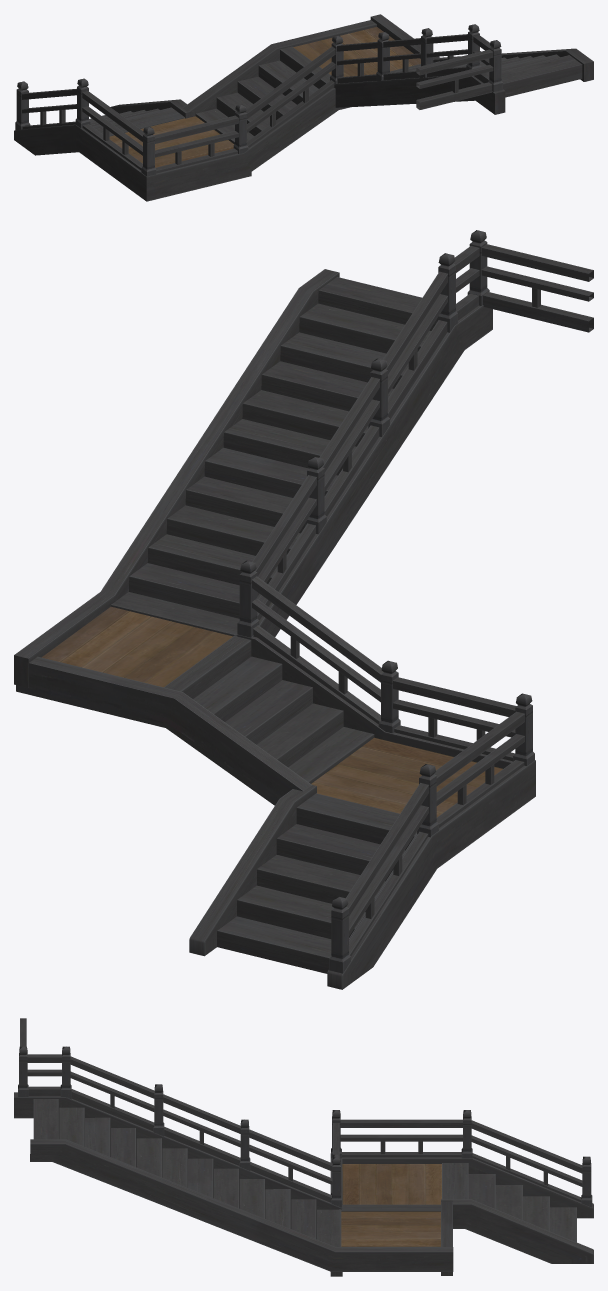
File: Homeworld_Interior_Dq_Room_F_Stair_01_Vo.fbx
The picture shows the model from 3 angles, top to bottom: view 1: azimuth 30°, elevation 25°; view 2: azimuth 150°, elevation 25°; view 3: azimuth 270°, elevation 25°; orthographic projection. The views are drawn at different scales.
Visible parts, largest first — view 1: Homeworld_Interior_Dq_Room_F_Stair_01_Vo; view 2: Homeworld_Interior_Dq_Room_F_Stair_01_Vo; view 3: Homeworld_Interior_Dq_Room_F_Stair_01_Vo.
Part boxes in pixels (x1=…): Homeworld_Interior_Dq_Room_F_Stair_01_Vo: x1=14, y1=14, x2=593, y2=201; Homeworld_Interior_Dq_Room_F_Stair_01_Vo: x1=14, y1=230, x2=593, y2=989; Homeworld_Interior_Dq_Room_F_Stair_01_Vo: x1=14, y1=1018, x2=593, y2=1276.
Size of the model in its own units: 7.73 by 6.55 by 13.21.
